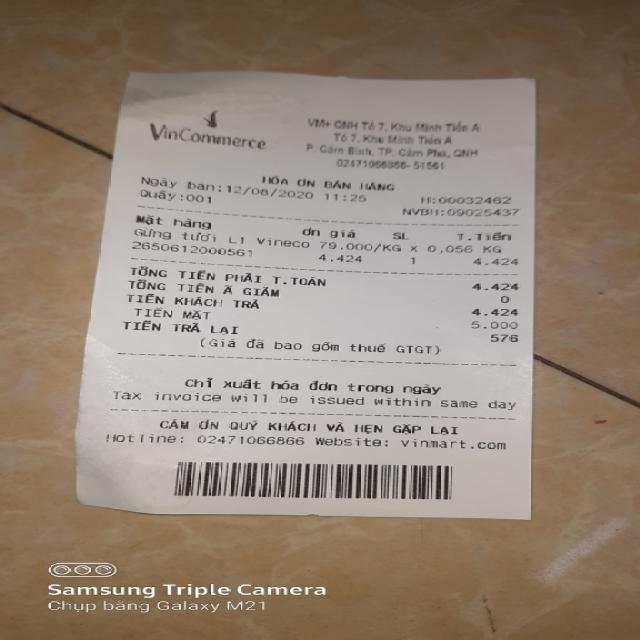Date: (225, 182, 312, 202)
Store_Name: (148, 119, 277, 155)
amount_number: (467, 280, 522, 292)
label_total: (128, 264, 339, 288)
